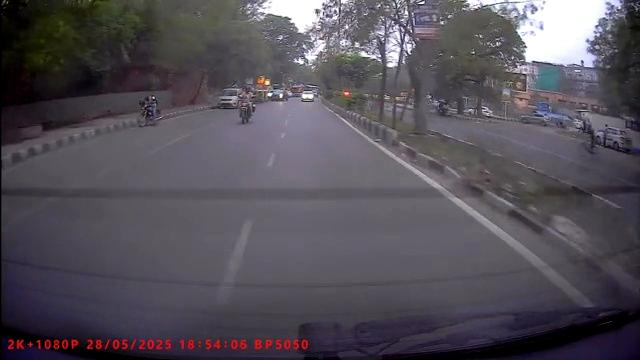motorcycle_with_helmet: (235, 86, 256, 126)
